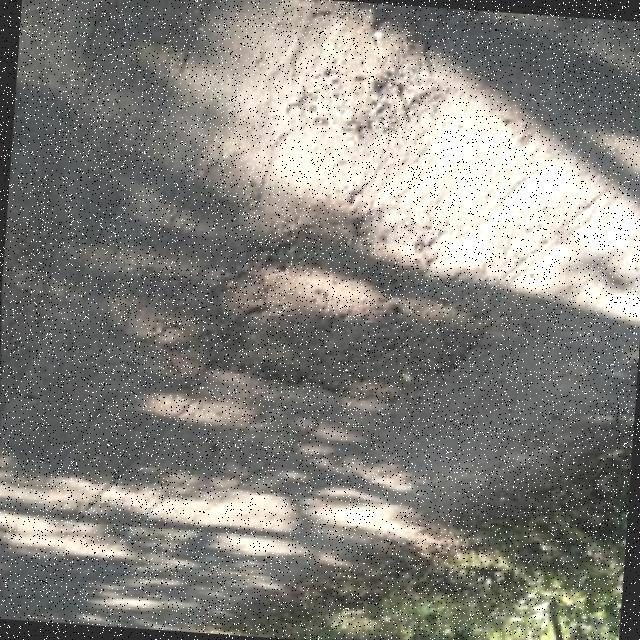Pothole: (203, 217, 483, 392), (297, 0, 446, 131)
